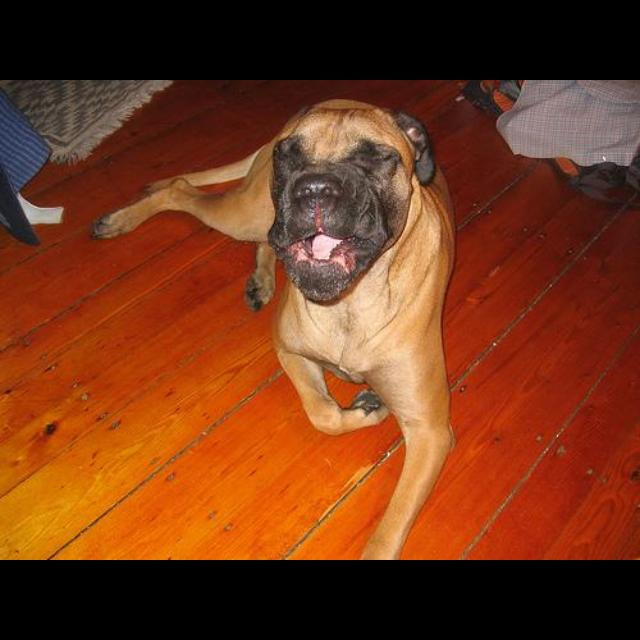bullmastiff: (91, 98, 459, 560)
